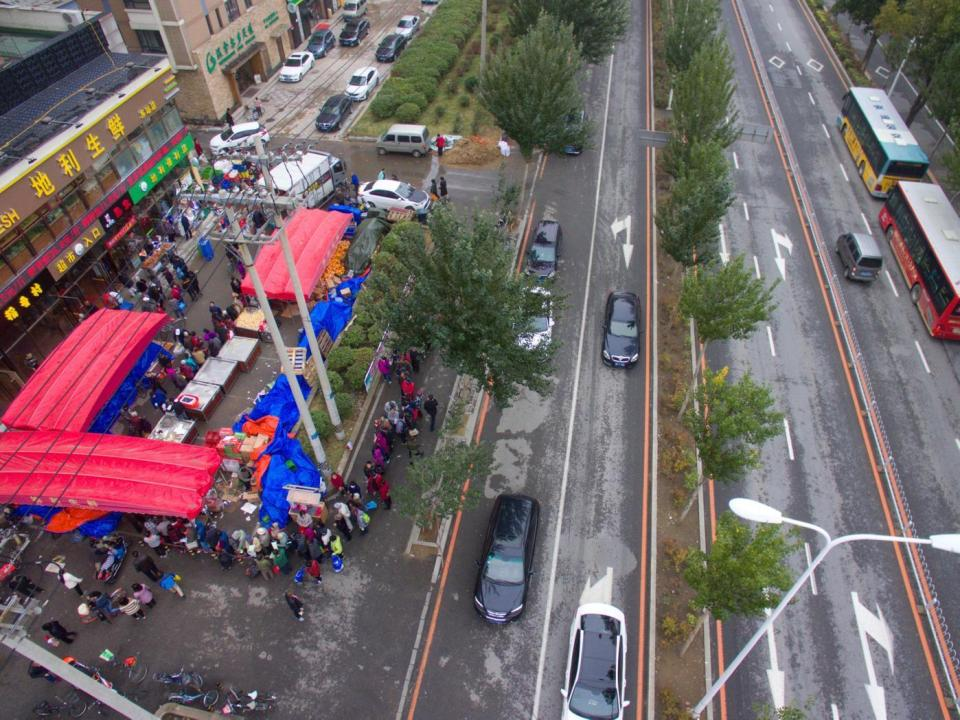bus: (879, 179, 959, 342), (836, 86, 929, 199)
car: (473, 494, 541, 628), (562, 602, 631, 718), (511, 284, 552, 360), (356, 176, 431, 216), (603, 291, 639, 369), (529, 220, 562, 280), (564, 105, 588, 162), (277, 51, 316, 83), (317, 96, 353, 130), (348, 68, 379, 100), (376, 34, 406, 65), (337, 20, 368, 47), (305, 30, 336, 56), (396, 15, 419, 42)
van: (255, 149, 346, 216), (837, 232, 882, 284), (375, 124, 433, 158), (341, 0, 364, 21)
